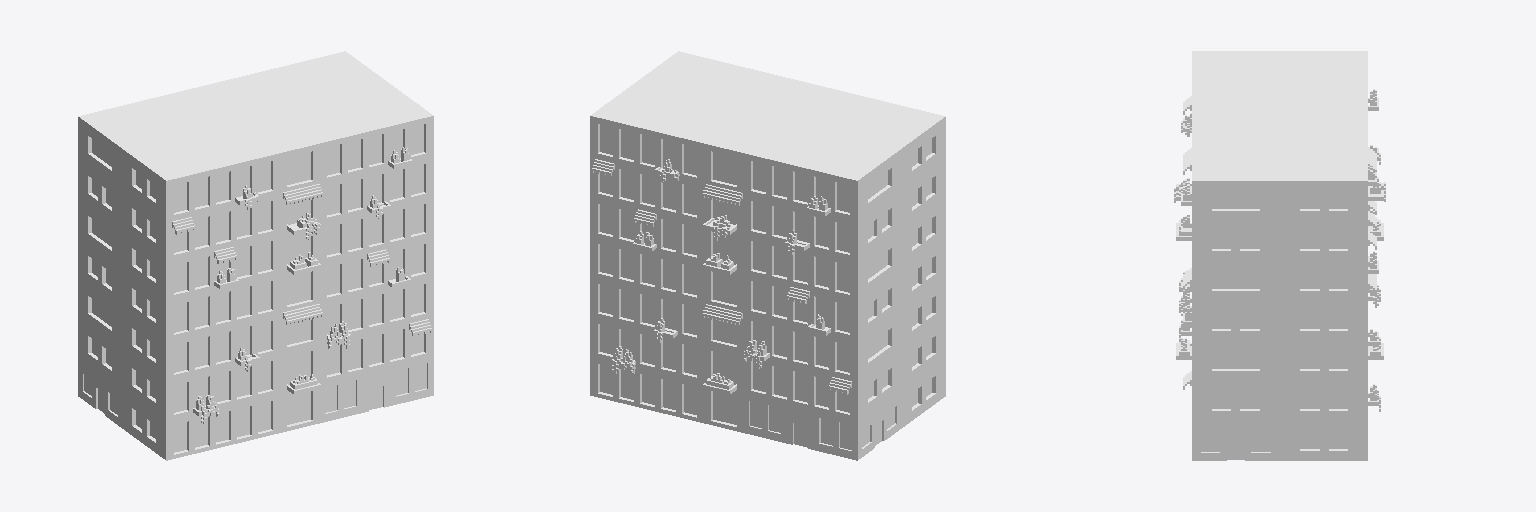
Rendered from Buildings_01-7.obj.
3 renders of one model, left to right at view 1: azimuth 30°, elevation 25°; view 2: azimuth 150°, elevation 25°; view 3: azimuth 270°, elevation 25°, orthographic.
Parts seen in each view (by area): view 1: object 1; view 2: object 1; view 3: object 1.
Part boxes in pixels (x1,y1,x2,y2): object 1: (78, 51, 433, 460); object 1: (590, 51, 945, 460); object 1: (1174, 51, 1385, 460).
Size of the model in its own units: 14 by 14 by 9.6.